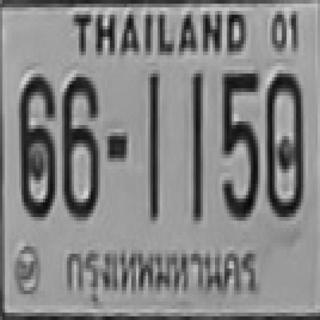N00: (264, 70, 302, 213)
N01: (147, 70, 159, 221), (191, 70, 200, 221)
N05: (220, 70, 258, 217)
N06: (61, 74, 99, 217), (17, 74, 55, 213)
P04: (60, 236, 263, 308)
